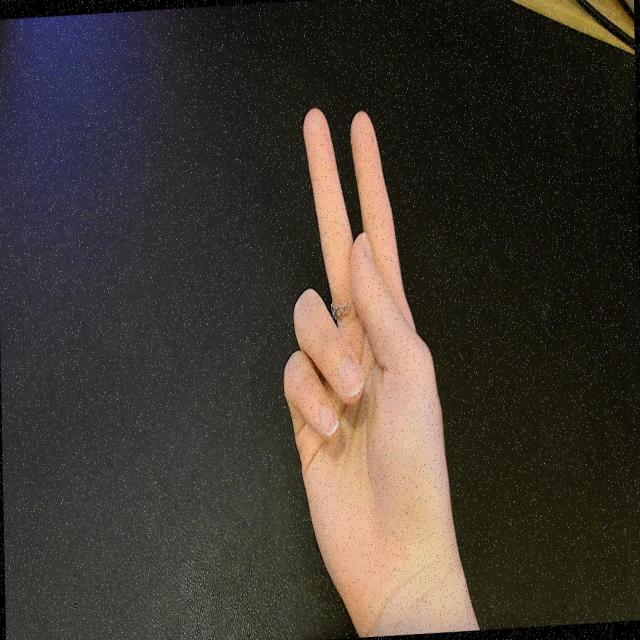K: (269, 89, 462, 612)
